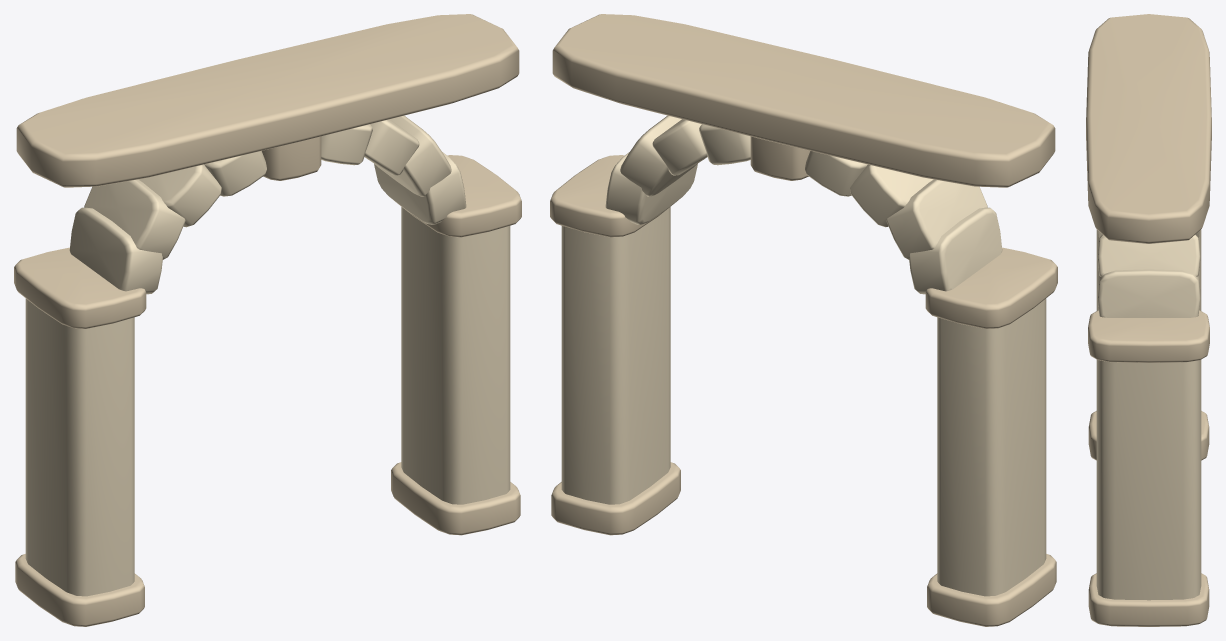
Rendered from archway_curved.glb.
3 renders of one model, left to right at view 1: azimuth 30°, elevation 25°; view 2: azimuth 150°, elevation 25°; view 3: azimuth 270°, elevation 25°, orthographic. The views are drawn at different scales.
Visible parts, largest first — view 1: Mesh_Archway; view 2: Mesh_Archway; view 3: Mesh_Archway.
Boxes of the visible parts, x1,y1,x2,y2 form: Mesh_Archway: (14,14,521,626); Mesh_Archway: (550,14,1057,626); Mesh_Archway: (1086,14,1211,626).
Bounding box in the file's own units: 5.54 × 5.25 × 1.44.
